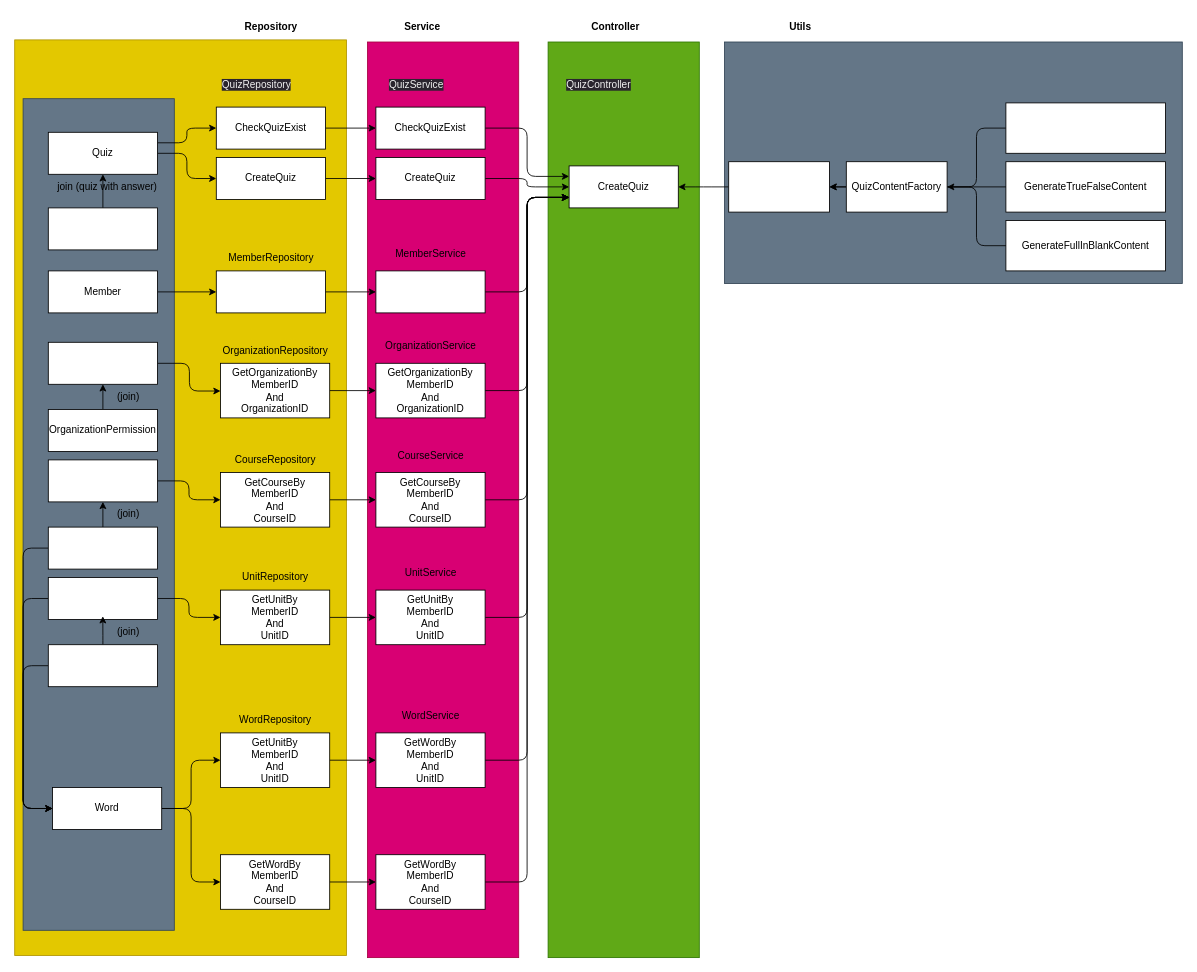
The diagram is 1197 pixels wide and 972 high, and some of its shapes have lost their labels. Here are the shapes that lost their labels. From the top down, the centre of each, then its label:
At point (1085, 127): "GenerateMutipleChoiceContent".
At point (779, 186): "GetQuizContent".
At point (102, 228): "QuizAnswer".
At point (270, 291): "GetMembersValid".
At point (430, 291): "GetValidMembers".
At point (102, 362): "Organization".
At point (102, 480): "Course".
At point (102, 547): "CoursePermission".
At point (102, 598): "Unit".
At point (102, 665): "UnitPermission".
